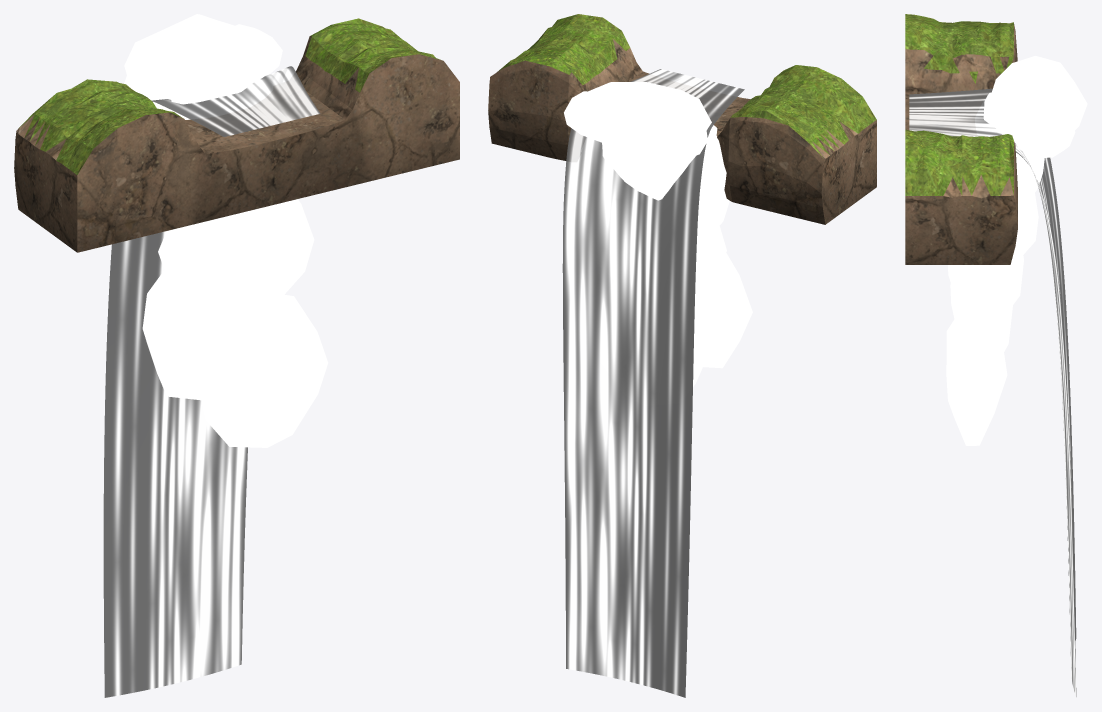
Rendered from rim_waterfall.glb.
3 views of the same model, side by side, from view 1: azimuth 30°, elevation 25°; view 2: azimuth 150°, elevation 25°; view 3: azimuth 270°, elevation 25° (orthographic). The views are drawn at different scales.
Parts seen in each view (by area): view 1: rim_lip, rim_water, rim_mist; view 2: rim_water, rim_lip, rim_mist; view 3: rim_lip, rim_mist, rim_water.
Boxes of the visible parts, x1=… form: rim_lip: x1=14, y1=18, x2=459, y2=252; rim_water: x1=103, y1=66, x2=320, y2=697; rim_mist: x1=124, y1=14, x2=328, y2=447; rim_water: x1=562, y1=69, x2=744, y2=697; rim_lip: x1=488, y1=14, x2=876, y2=224; rim_mist: x1=564, y1=82, x2=752, y2=386; rim_lip: x1=905, y1=14, x2=1017, y2=264; rim_mist: x1=946, y1=56, x2=1087, y2=445; rim_water: x1=909, y1=88, x2=1076, y2=696.
Bounding box in the file's own units: 4.75 × 7.96 × 2.2.
3 materials, 2 textured.
